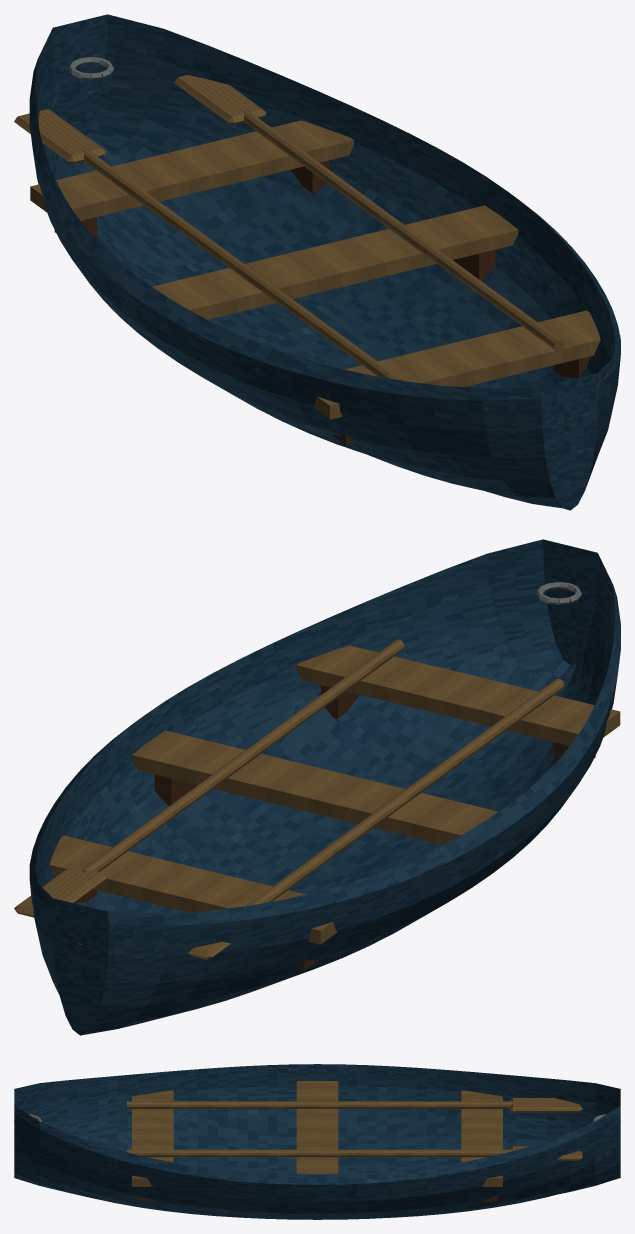
File: level_camp_rowboat.glb
3 views of the same model, one above another, from view 1: azimuth 30°, elevation 25°; view 2: azimuth 150°, elevation 25°; view 3: azimuth 270°, elevation 25° (orthographic). The views are drawn at different scales.
Parts seen in each view (by area): view 1: level_camp_rowboat; view 2: level_camp_rowboat; view 3: level_camp_rowboat.
Boxes of the visible parts, x1,y1,x2,y2 form: level_camp_rowboat: (14, 14, 620, 510); level_camp_rowboat: (14, 539, 620, 1035); level_camp_rowboat: (14, 1064, 620, 1219).
Size of the model in its own units: 1.6 by 0.655 by 3.5.
Materials: 4 (4 with a texture image).
